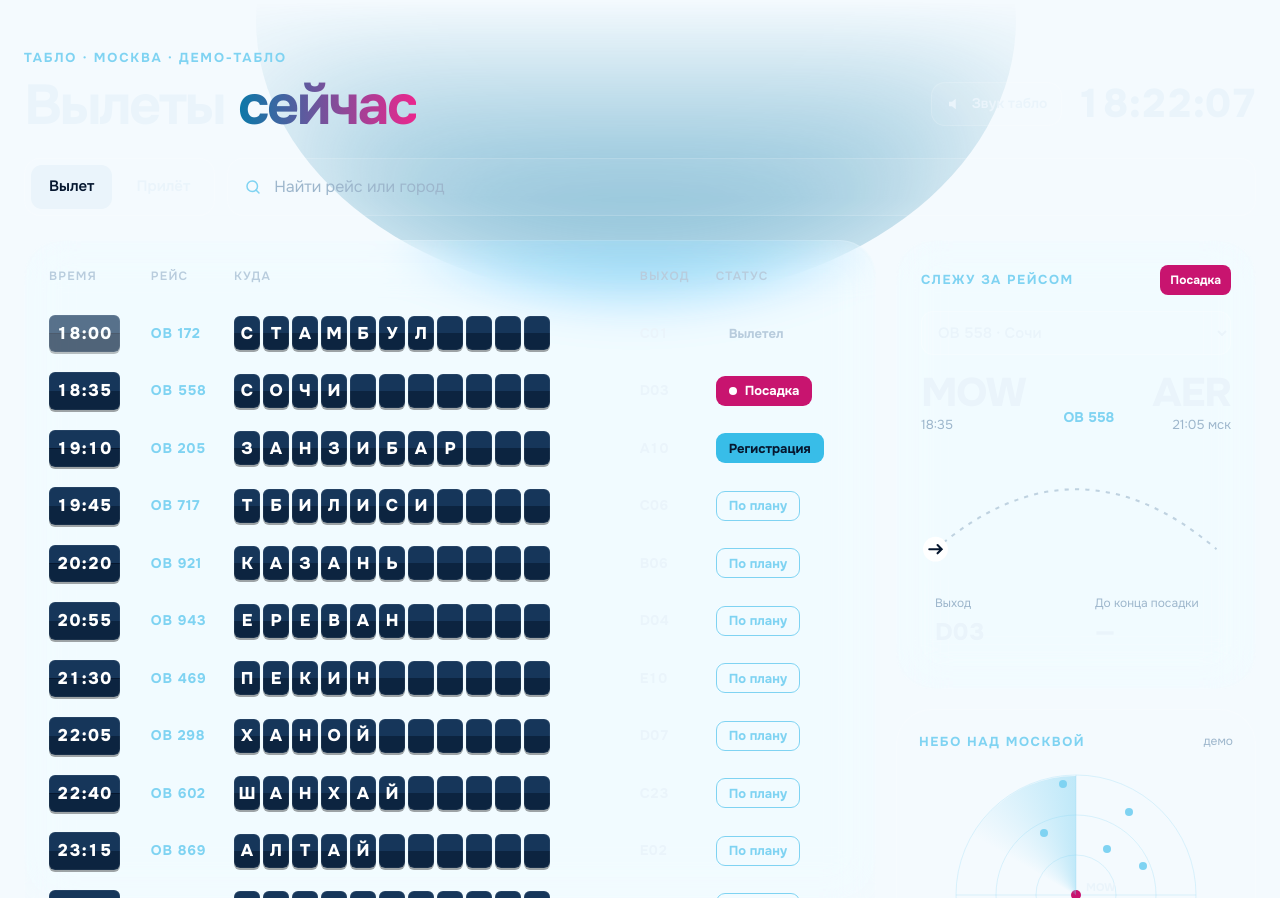
Board › filters by city or flight number
Type "тбил" into the search field labelled "Найти рейс или город".
click(756, 186); type("тбил")  # box x1=272 y1=174 x2=1239 y2=200
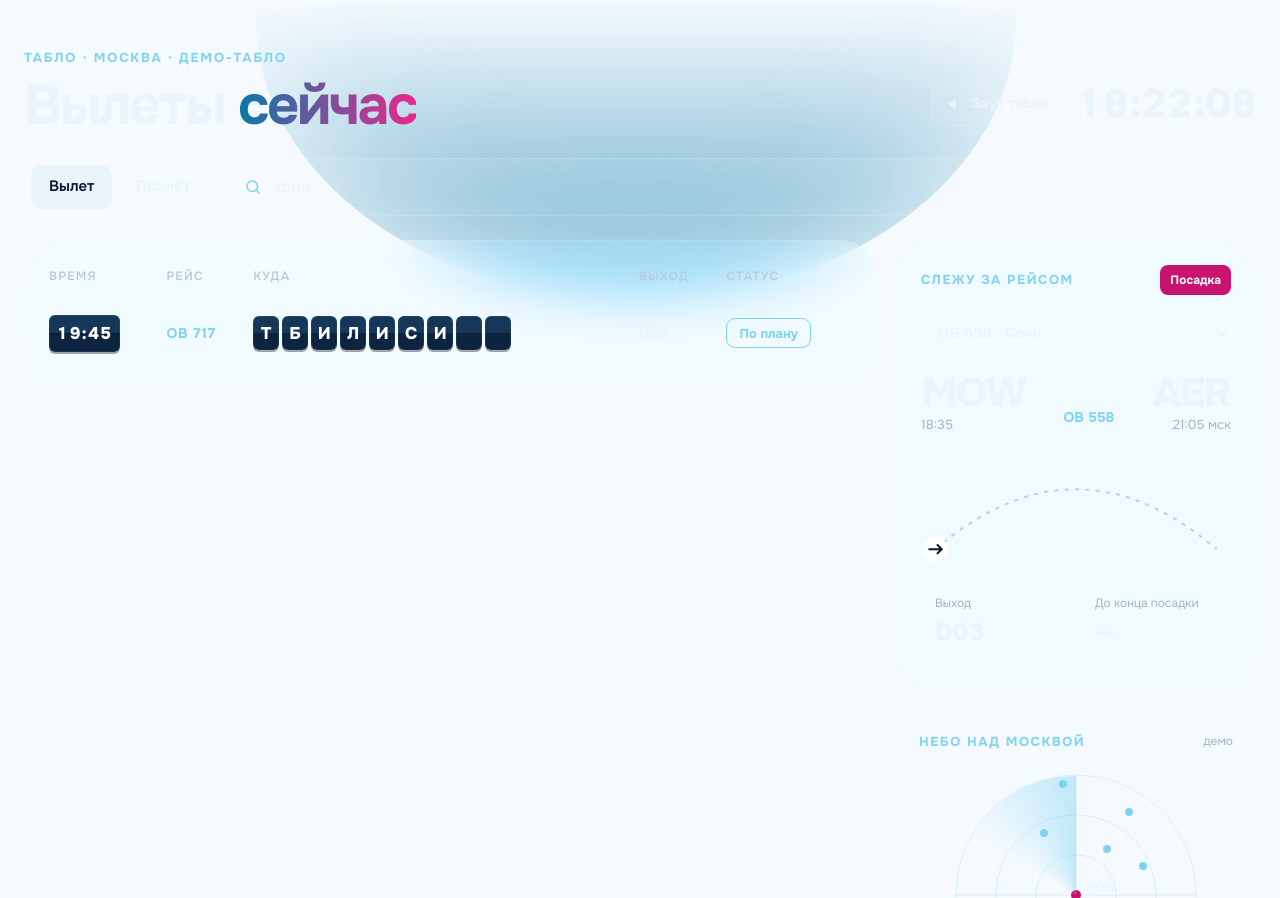
Now the number of rows is 2, box x1=43 y1=258 x2=857 y2=292; x1=43 y1=308 x2=857 y2=358
